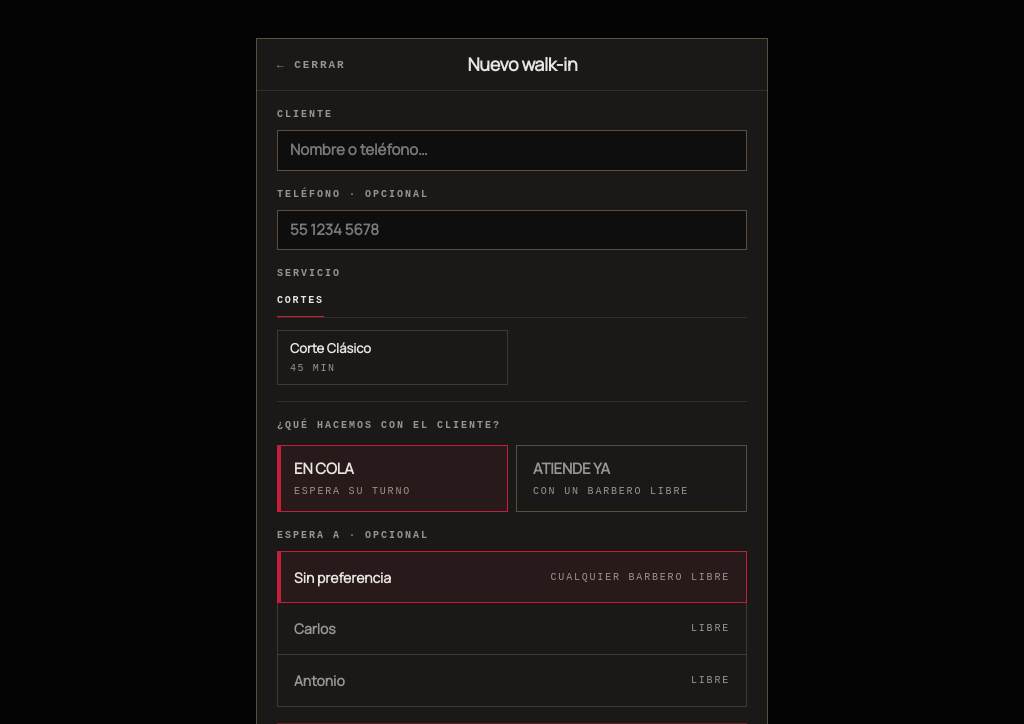
Test case: AddWalkInSheet › re-resolves service durations with the selected barber and falls back to sucursal on "Sin preferencia"
Expected: the text "45 min" is shown, [290,361,336,376]
Click the button "Carlos libre" at (315, 629), box [277,603,747,655]
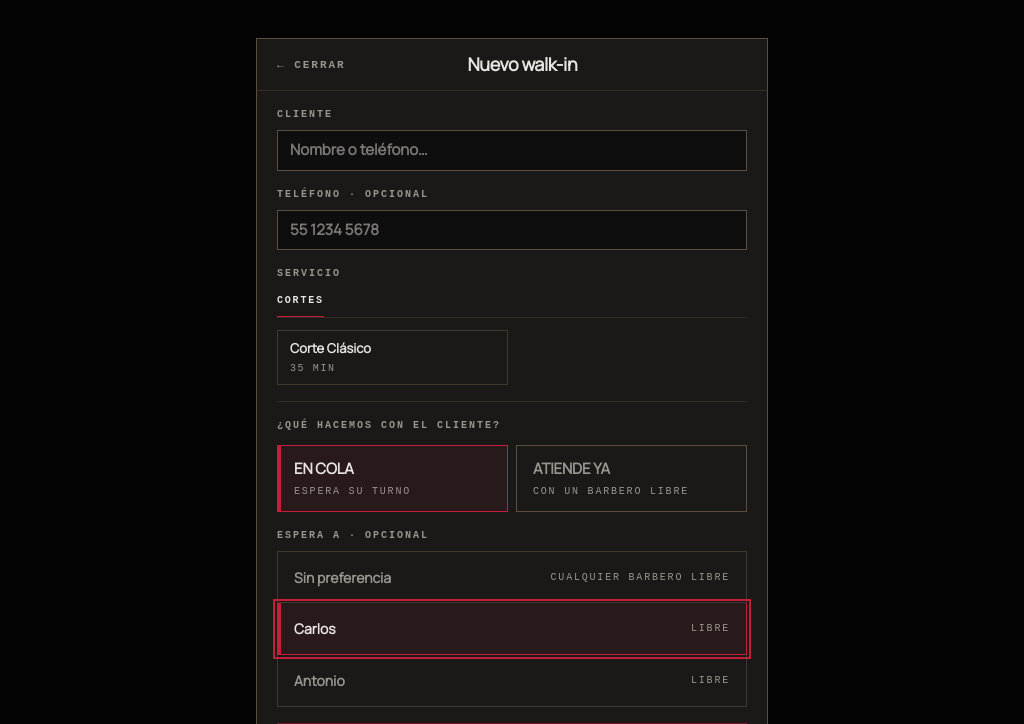
Expected: the text "35 min" is shown, [290,361,336,376]
Click the button "Sin preferencia cualquier barbero libre" at (342, 577), box [277,551,747,603]
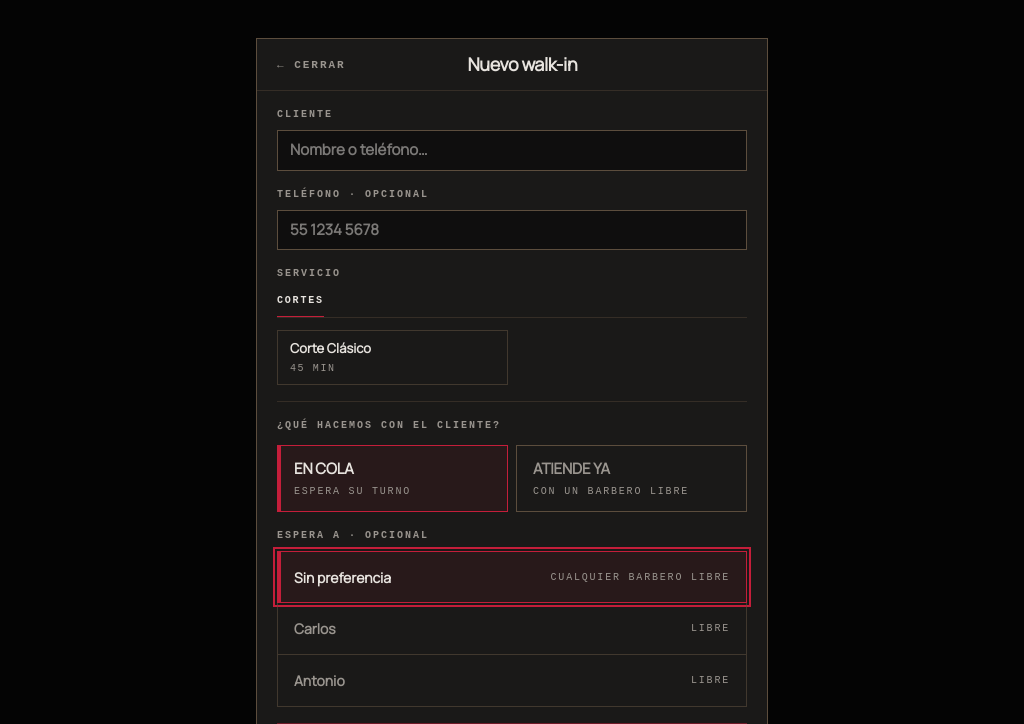
Expected: the text "45 min" is shown, [290,361,336,376]
